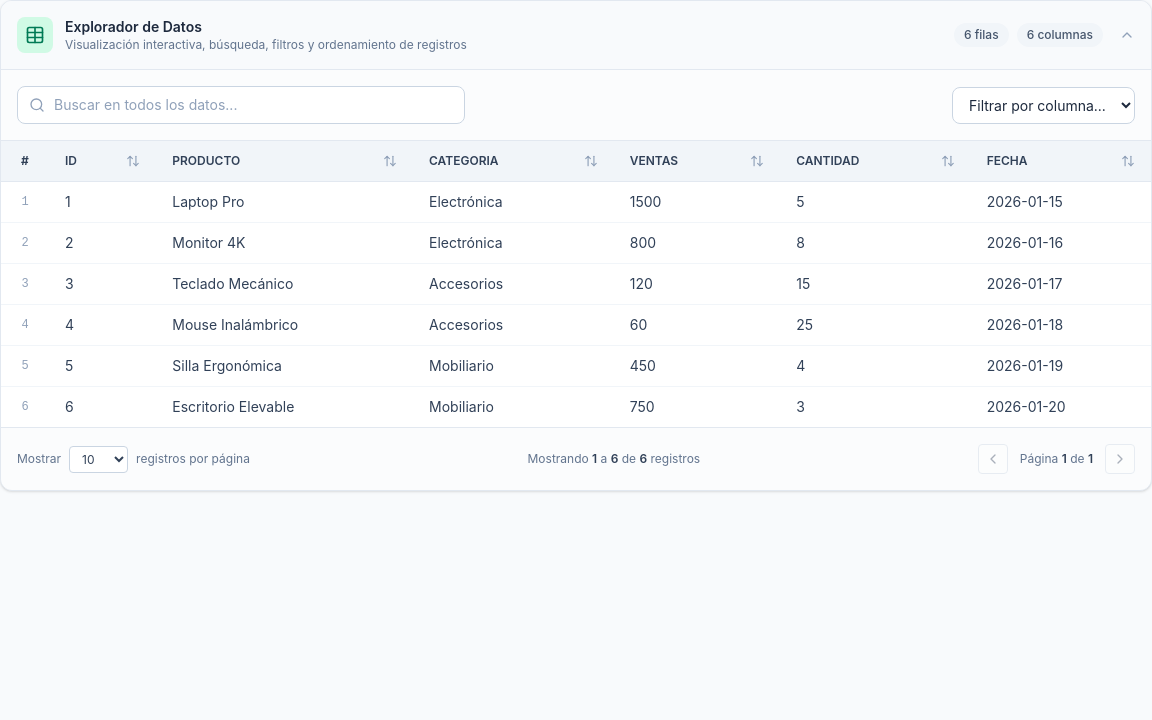
it: Componente DataExplorer › debe ordenar registros al hacer clic en el encabezado de una columna
The image size is (1152, 720).
Click the column heading "Producto" at (206,160), box x1=156 y1=141 x2=413 y2=182
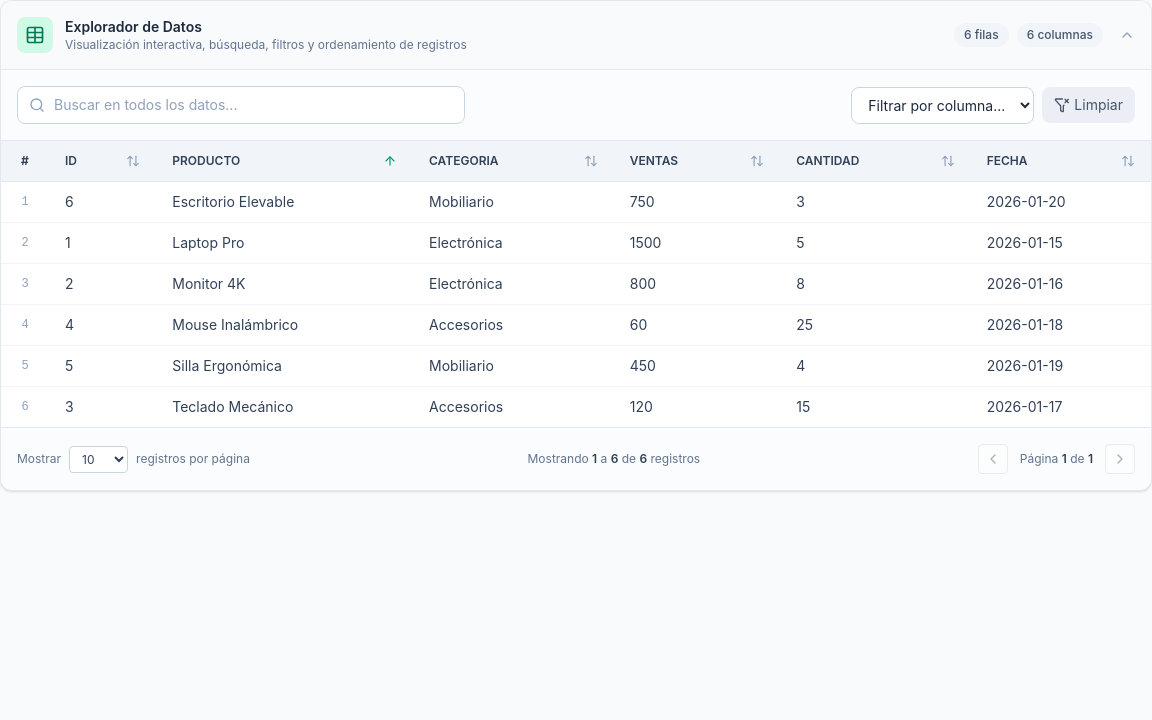
Expected: the row "1 6 Escritorio Elevable Mobiliario 750 3 2026-01-20" is shown, x1=1 y1=182 x2=1151 y2=222
Click the column heading "Producto" at (206,160), box x1=156 y1=141 x2=413 y2=182
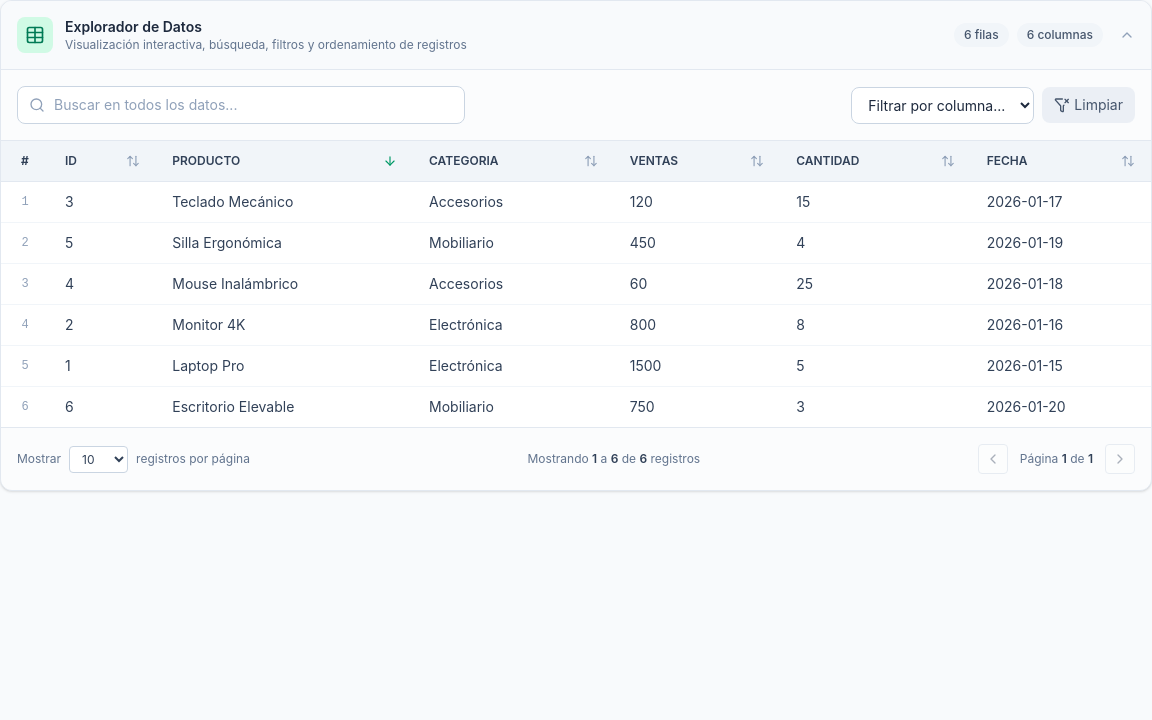
Expected: the row "1 3 Teclado Mecánico Accesorios 120 15 2026-01-17" is shown, x1=1 y1=182 x2=1151 y2=222
